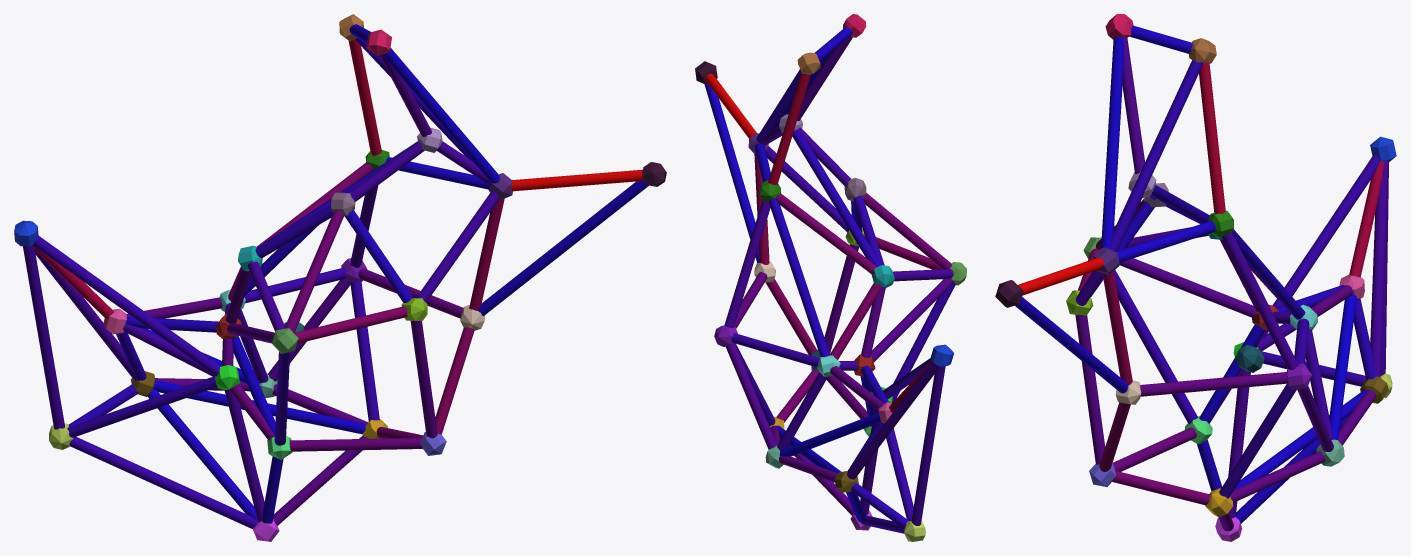
Rendered from fg-00020-skel.obj.
3 renders of one model, left to right at view 1: azimuth 30°, elevation 25°; view 2: azimuth 150°, elevation 25°; view 3: azimuth 270°, elevation 25°, orthographic. The views are drawn at different scales.
Bounding box in the file's own units: 0.1933 × 0.2089 × 0.1368.
